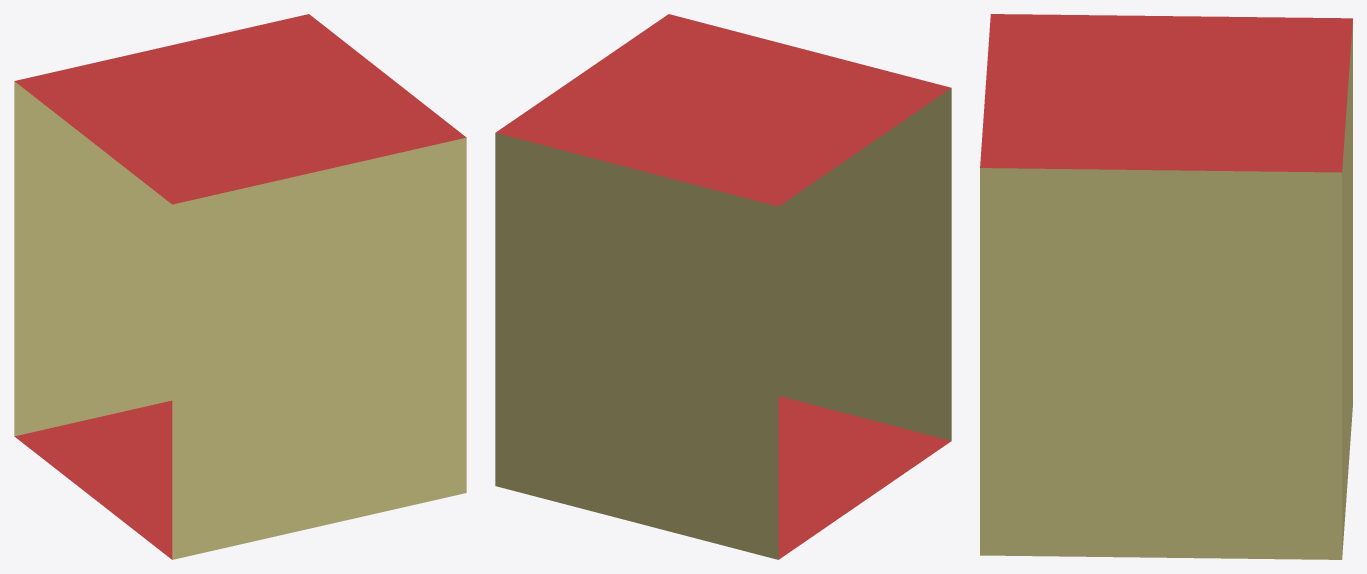
3 renders of one model, left to right at view 1: azimuth 30°, elevation 25°; view 2: azimuth 150°, elevation 25°; view 3: azimuth 270°, elevation 25°, orthographic. The views are drawn at different scales.
Size of the model in its own units: 6.37 by 6.33 by 7.26.
